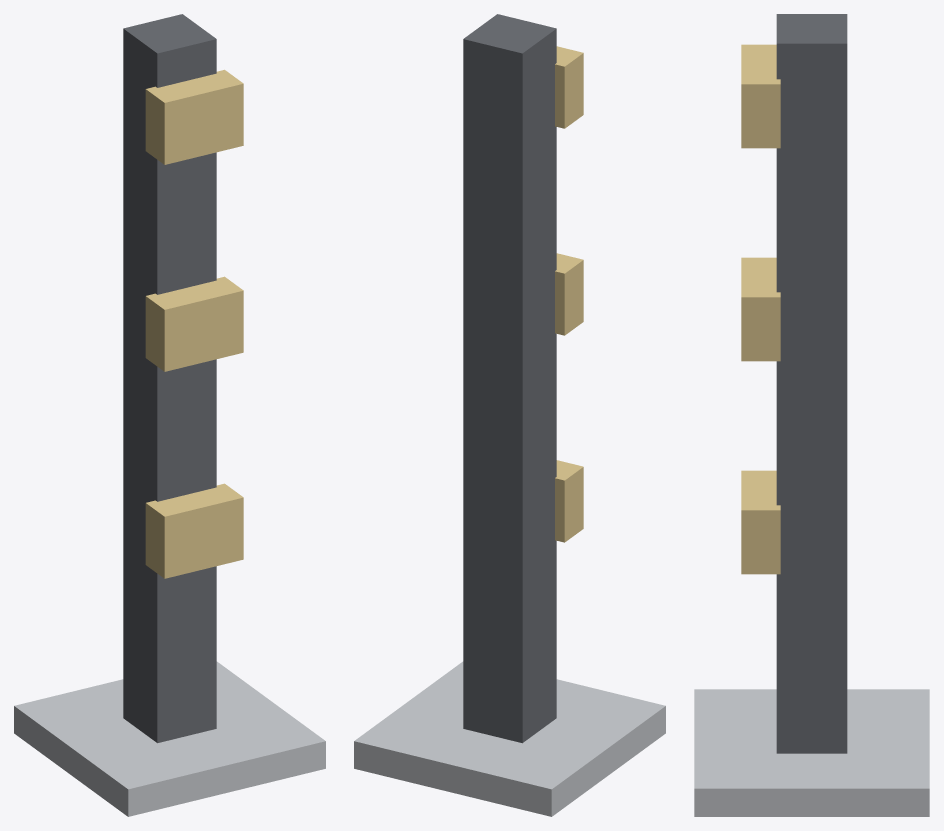
The model's file is bank-vault-heist-kit-laser-emitter-post-11ffe3ab__25102.glb.
The picture shows the model from 3 angles, left to right: view 1: azimuth 30°, elevation 25°; view 2: azimuth 150°, elevation 25°; view 3: azimuth 270°, elevation 25°; orthographic projection. The views are drawn at different scales.
Visible parts, largest first — view 1: laser-emitter-post; view 2: laser-emitter-post; view 3: laser-emitter-post.
Part boxes in pixels (x1,y1,x2,y2): laser-emitter-post: (14,14,325,816); laser-emitter-post: (354,14,665,816); laser-emitter-post: (694,14,929,816).
Bounding box in the file's own units: 0.3 × 1.04 × 0.3.
